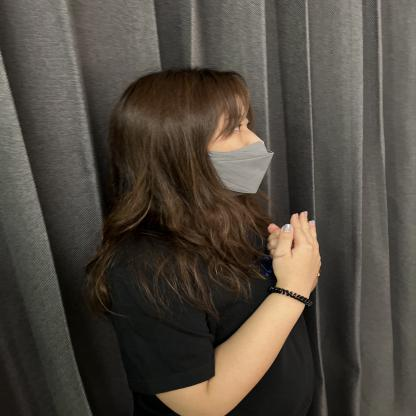Grieve: (181, 196, 390, 340)
